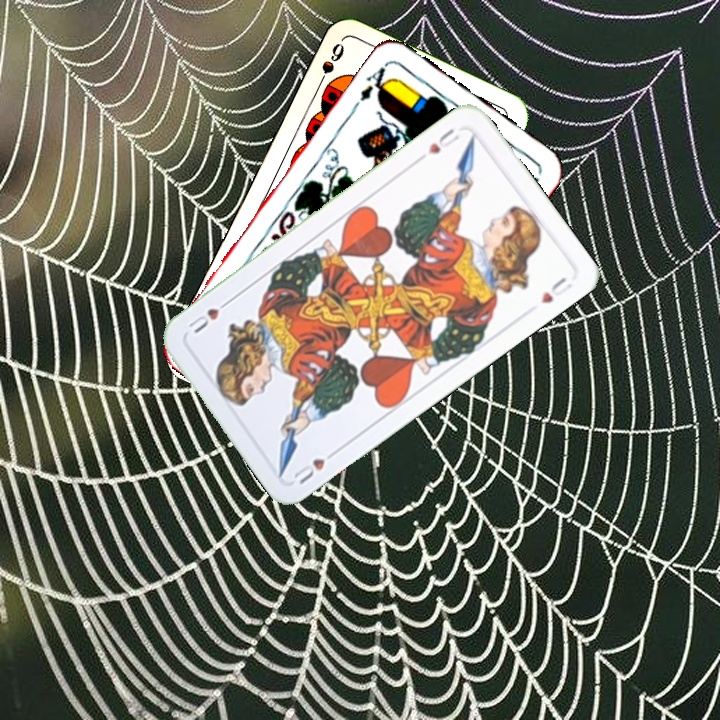EA: (356, 59, 396, 104)
HU: (289, 444, 341, 488), (423, 124, 462, 157)
S9: (311, 39, 347, 94)
